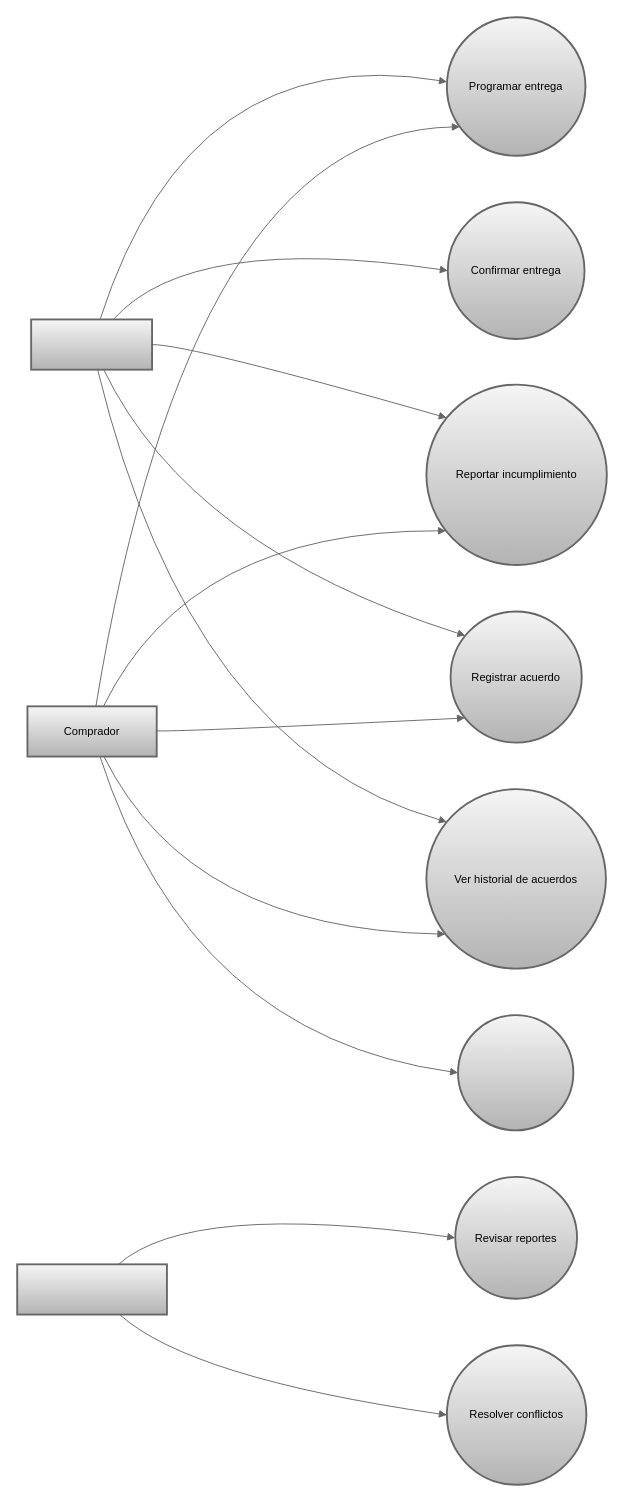
Image size: 623x1501. Some labels were removed from this diagram. Here are the shapes that lost their labels. From the top down, the centre of each, then its label:
At (91,344): "Productor".
At (515,1072): "Validar entrega".
At (91,1289): "Administrador".
